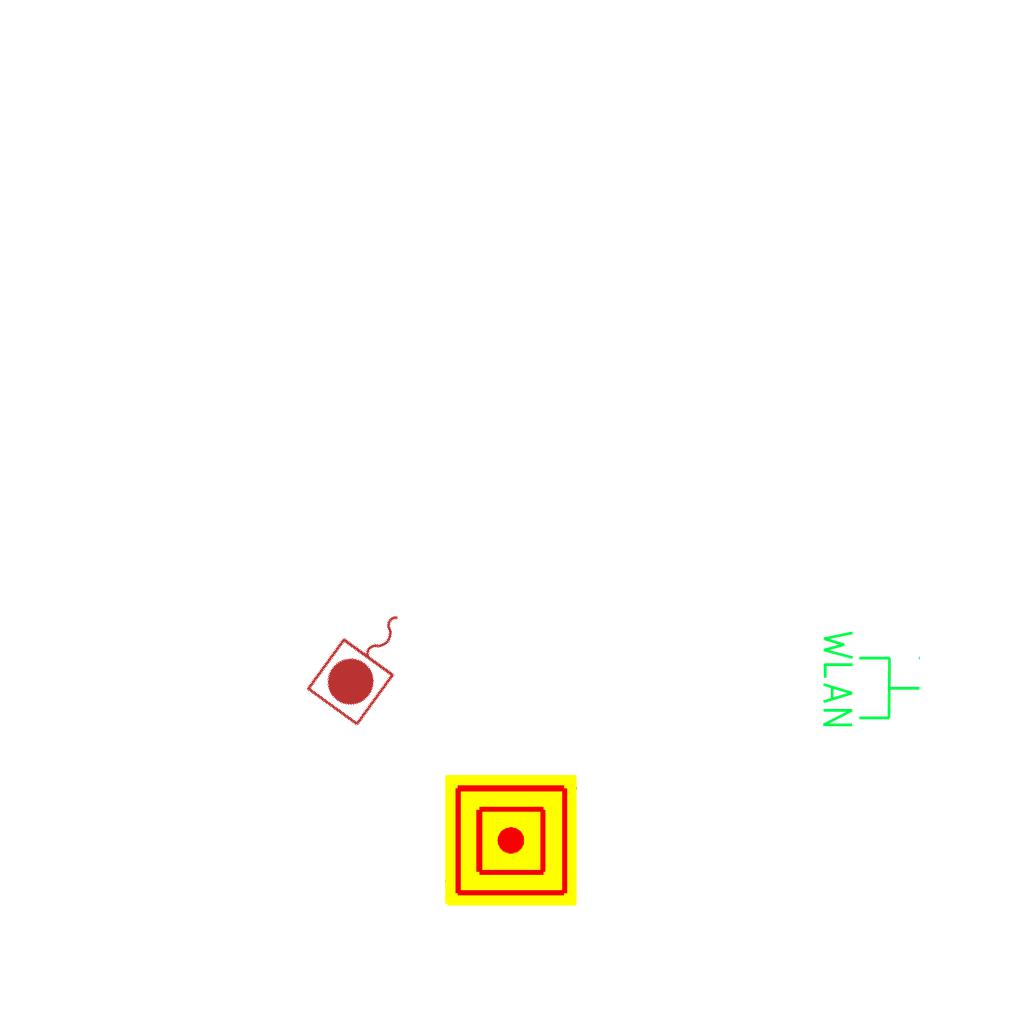NAM-Nichtautomatischer_Melder: (445, 774, 577, 906)
WLAN: (819, 626, 923, 731)
Zugtaster: (301, 591, 431, 733)
